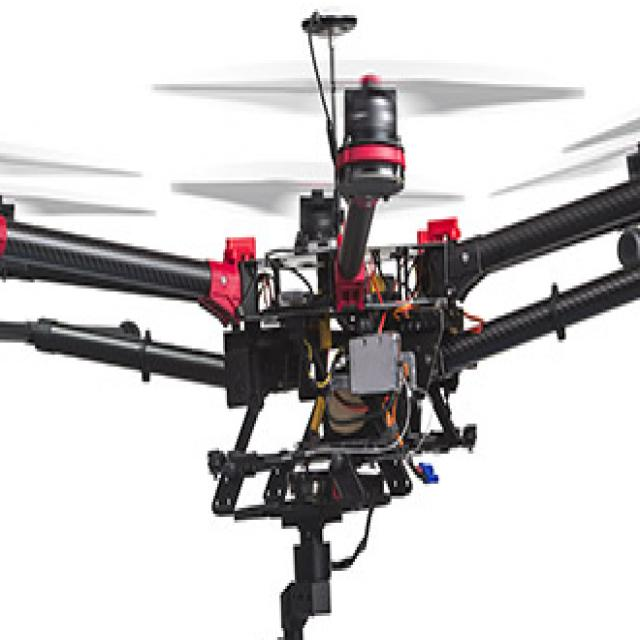drone: (0, 15, 640, 391)
